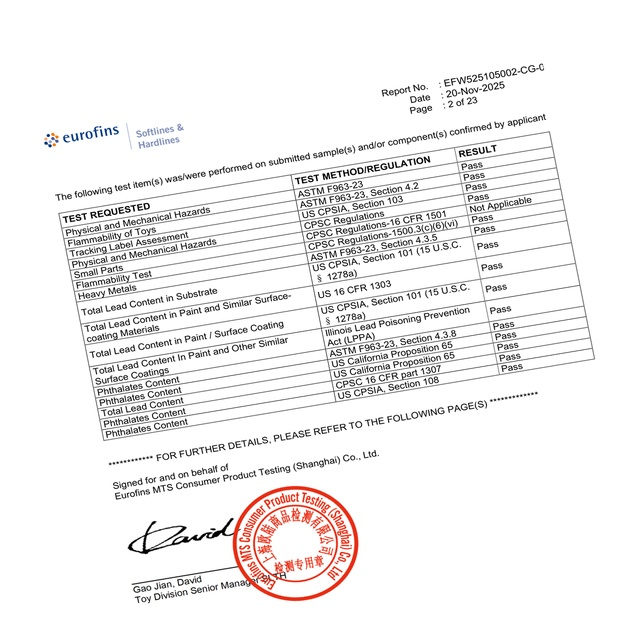eurofins: (39, 122, 122, 152)
